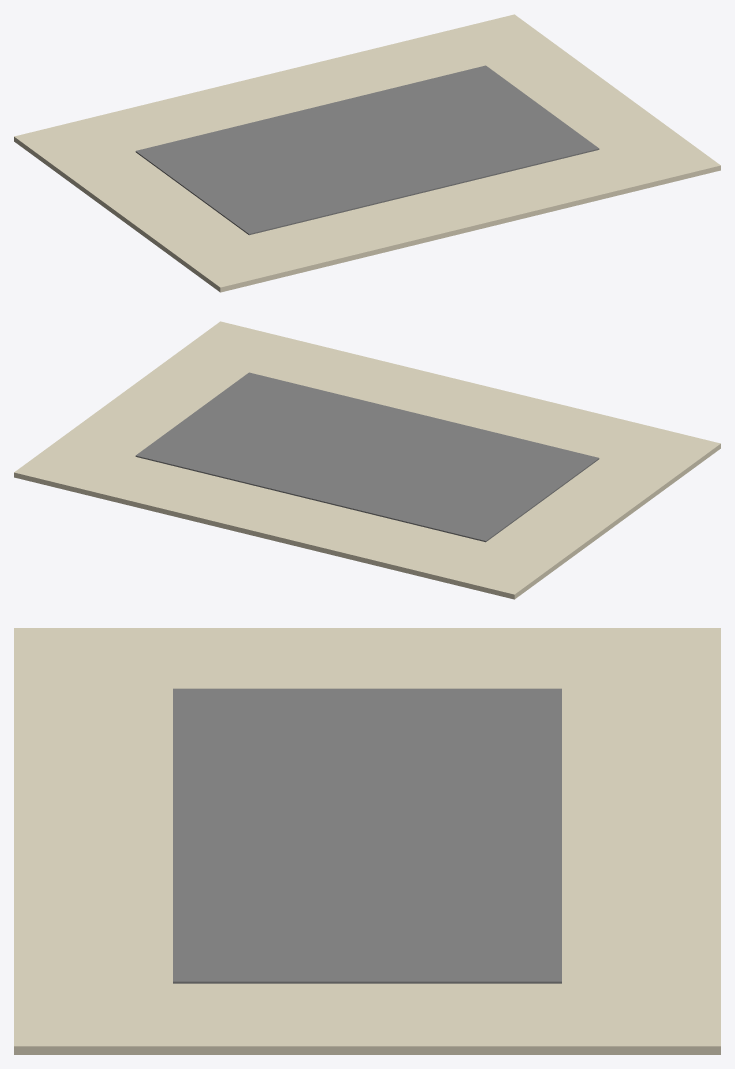
Rendered from letter.fbx.
The picture shows the model from 3 angles, top to bottom: view 1: azimuth 30°, elevation 25°; view 2: azimuth 150°, elevation 25°; view 3: azimuth 270°, elevation 25°; orthographic projection. The views are drawn at different scales.
Visible parts, largest first — view 1: letter; view 2: letter; view 3: letter.
Part boxes in pixels (<box>): letter: <box>14,14,720,292</box>; letter: <box>14,321,720,599</box>; letter: <box>14,628,720,1054</box>.
Size of the model in its own units: 0.21 by 0.0025 by 0.15.
